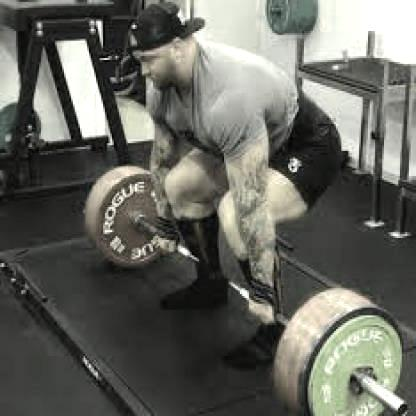Barbell: (393, 399, 413, 416)
